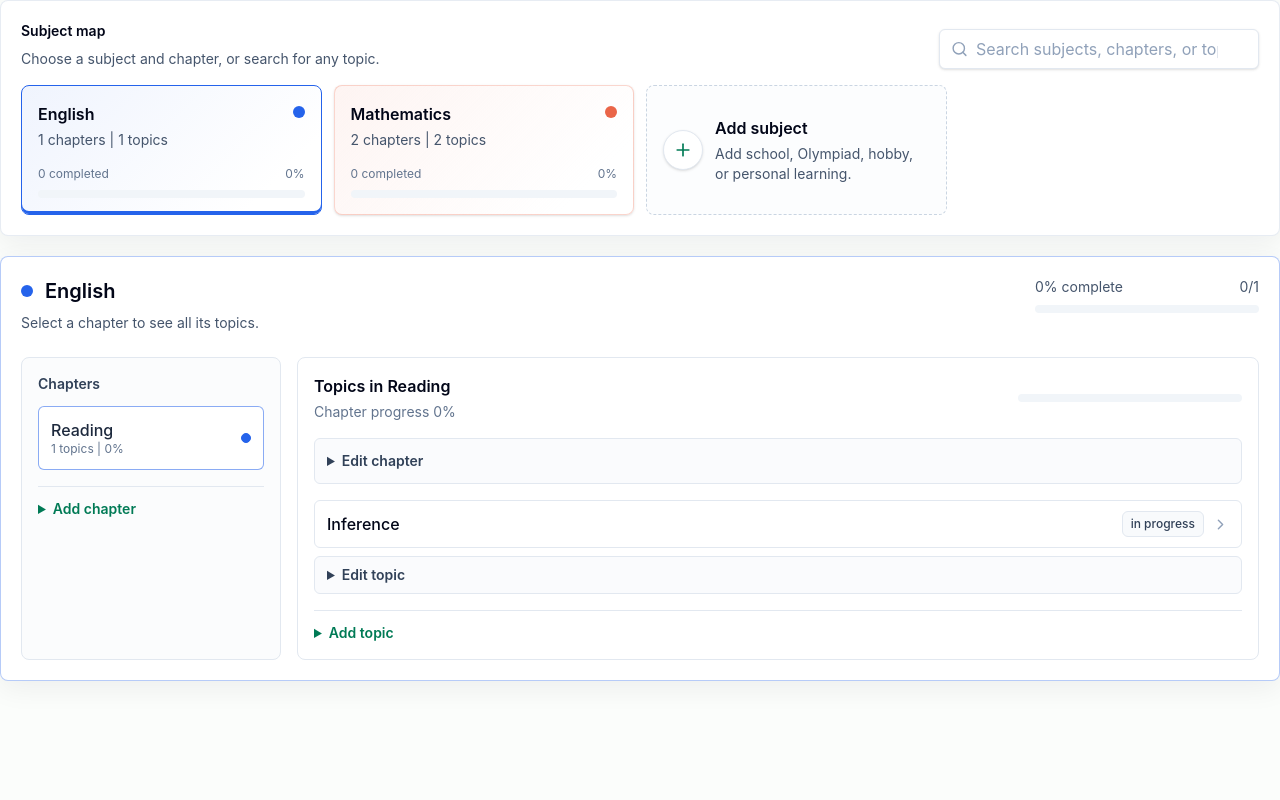
Test case: KidSubjectExplorer › lets a kid select a subject and chapter
Click the button "Mathematics 2 chapters | 2 topics 0 completed 0%": [484, 150] box top-left (334, 85), bottom-right (634, 215)
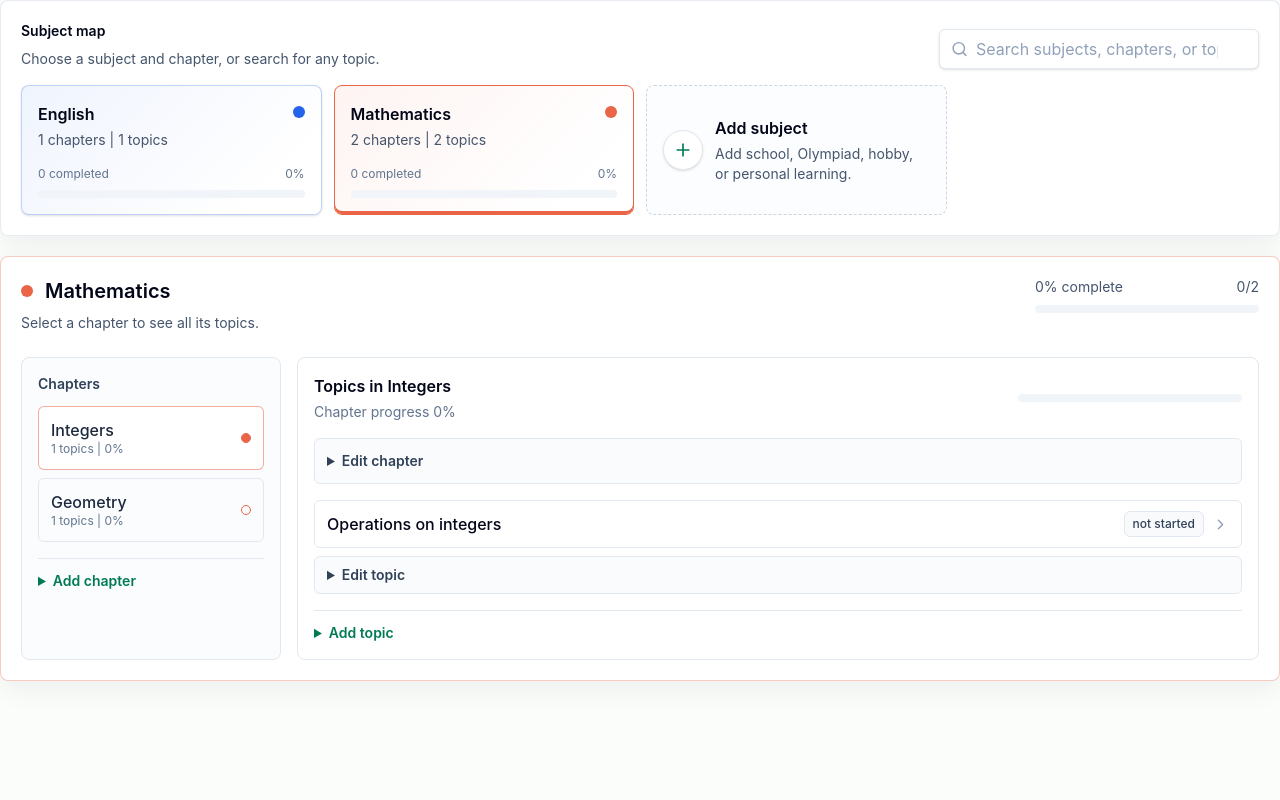
Click the button "Geometry 1 topics | 0%": [151, 510] box top-left (38, 478), bottom-right (264, 542)
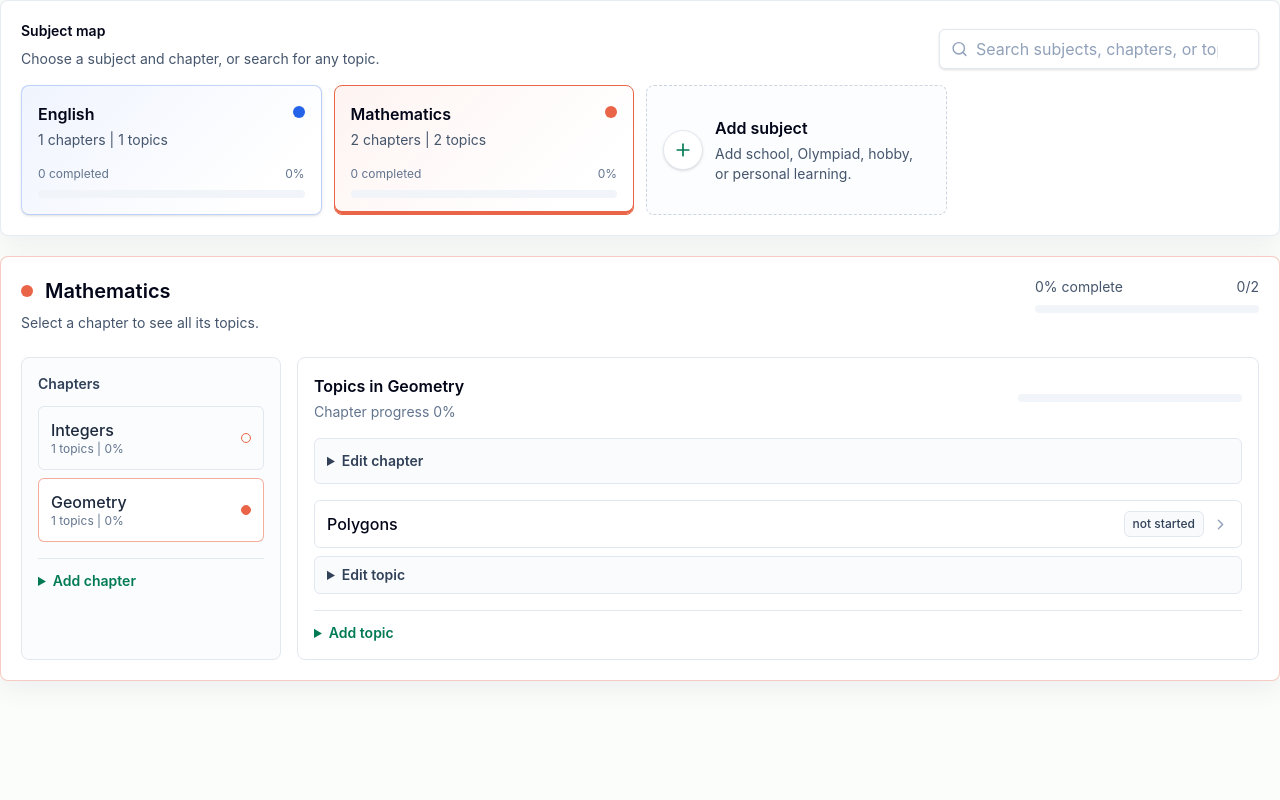
Now the link "Operations on integers" is gone
